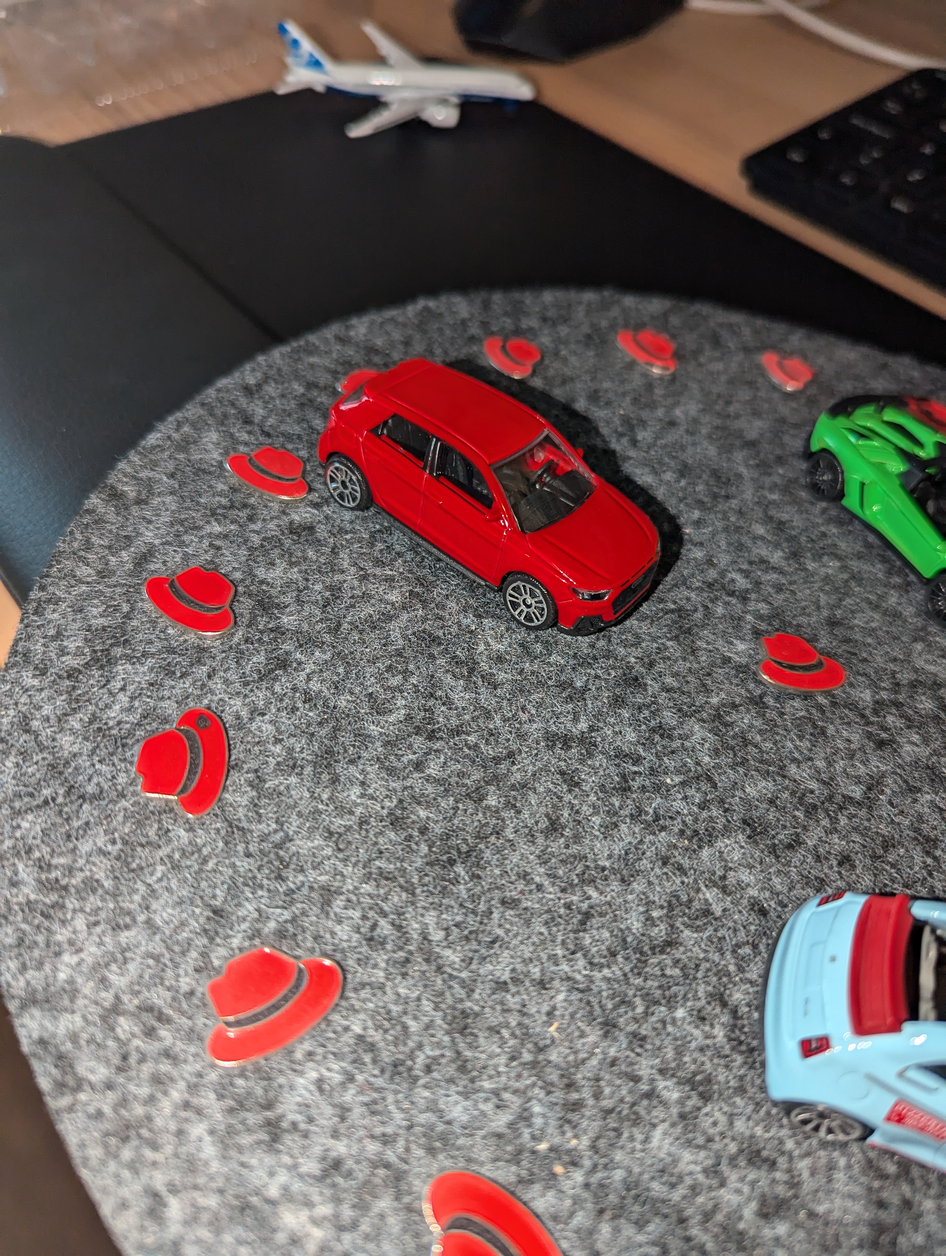Airplane: (248, 0, 567, 157)
Car: (296, 342, 702, 665), (732, 871, 946, 1188), (795, 379, 946, 603)
Red-Hat: (177, 939, 357, 1073), (387, 1150, 577, 1256), (124, 683, 241, 824), (127, 549, 248, 645), (749, 615, 856, 716), (219, 433, 319, 513), (473, 321, 559, 387), (611, 317, 686, 386), (761, 334, 827, 411)
Scratch: (636, 351, 676, 380), (184, 699, 219, 731)
